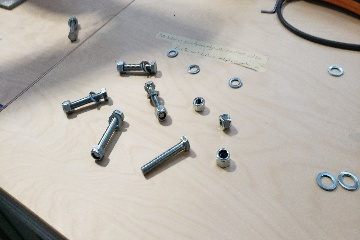Bolt: (138, 133, 194, 179)
FalseAssembly: (85, 108, 128, 161), (57, 87, 111, 117), (64, 14, 82, 42)
FinishedAssembly: (142, 81, 170, 122), (114, 59, 160, 78)
Nut: (214, 148, 234, 168), (217, 113, 234, 130), (192, 96, 208, 113)
Washer: (314, 169, 339, 192), (338, 169, 360, 193), (226, 76, 245, 91), (327, 64, 344, 79), (186, 62, 202, 76), (166, 49, 177, 58)
